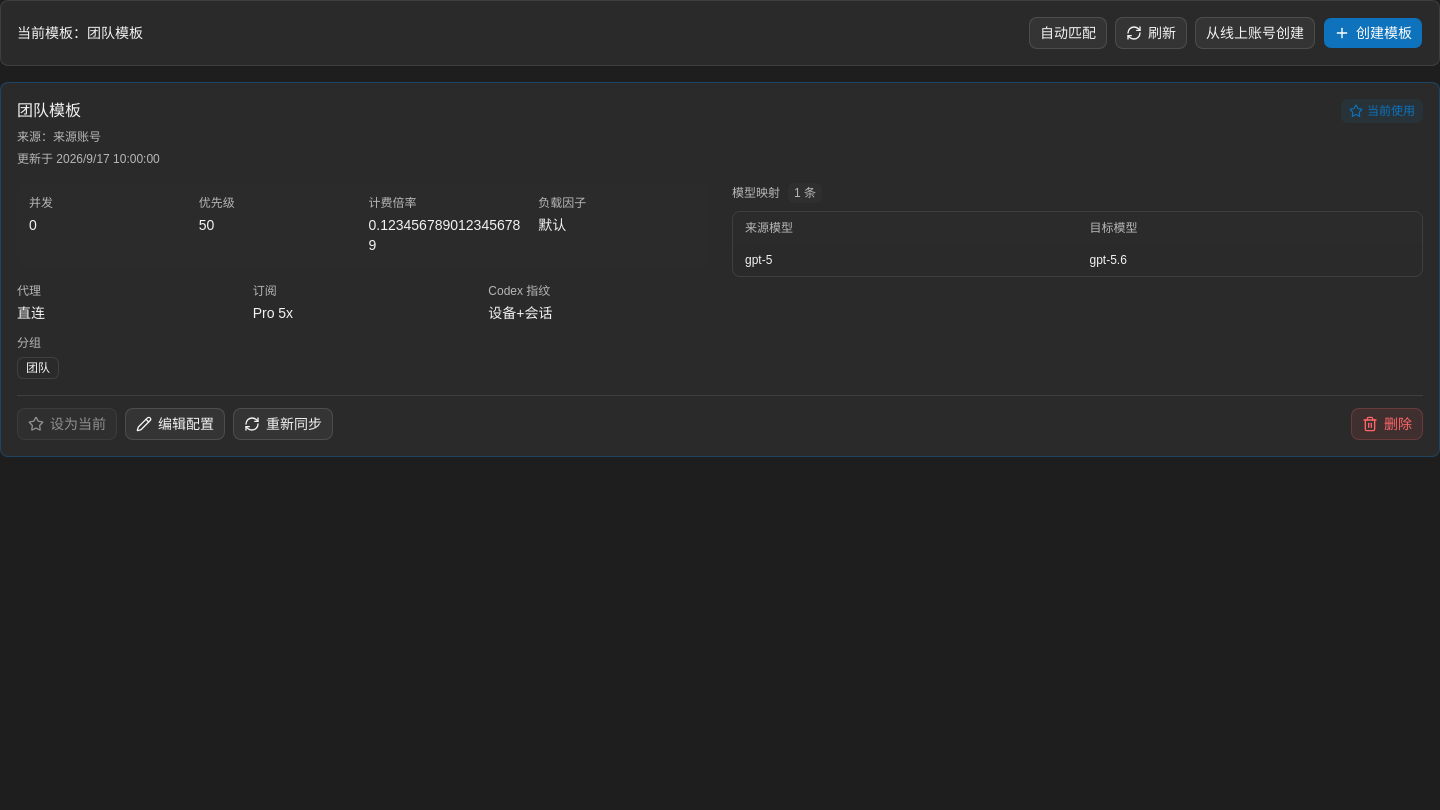
Test: 来源模板可直接编辑配置，保存沿用模板 ID 和版本且不读取线上账号
Step 1. Click the button "编辑配置" → (175, 424), box [125,408,225,440]
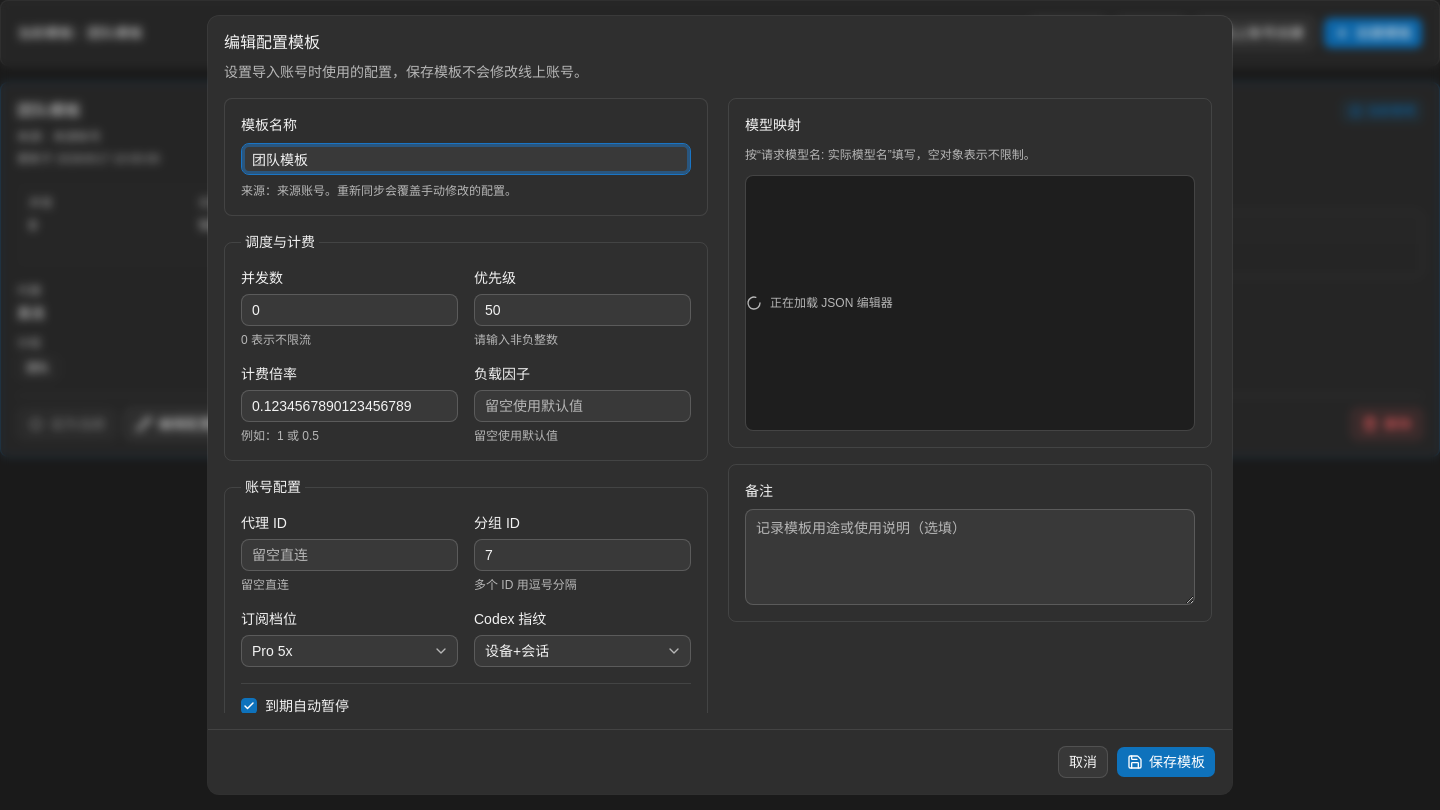
Expected: the field labelled "模板名称" holds "团队模板"
Expected: the field labelled "计费倍率" holds "0.1234567890123456789", [241,390,458,422]
Step 2. Replace the text in the field labelled "模板名称" with "调整后模板" → (466, 159), box [241,143,691,175]
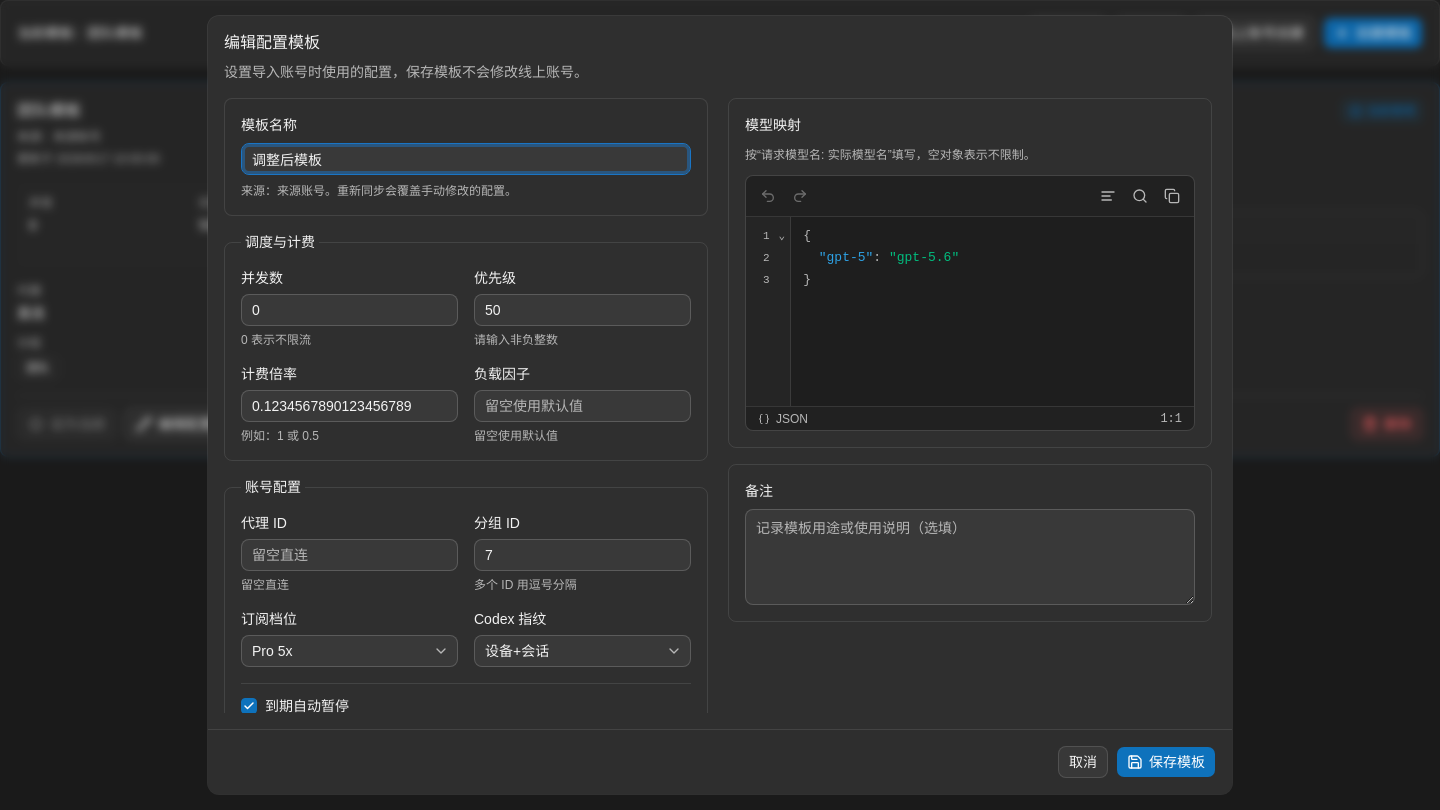
Step 3. Replace the text in the number field labelled "并发数" with "12" → (350, 310), box [241,294,458,326]
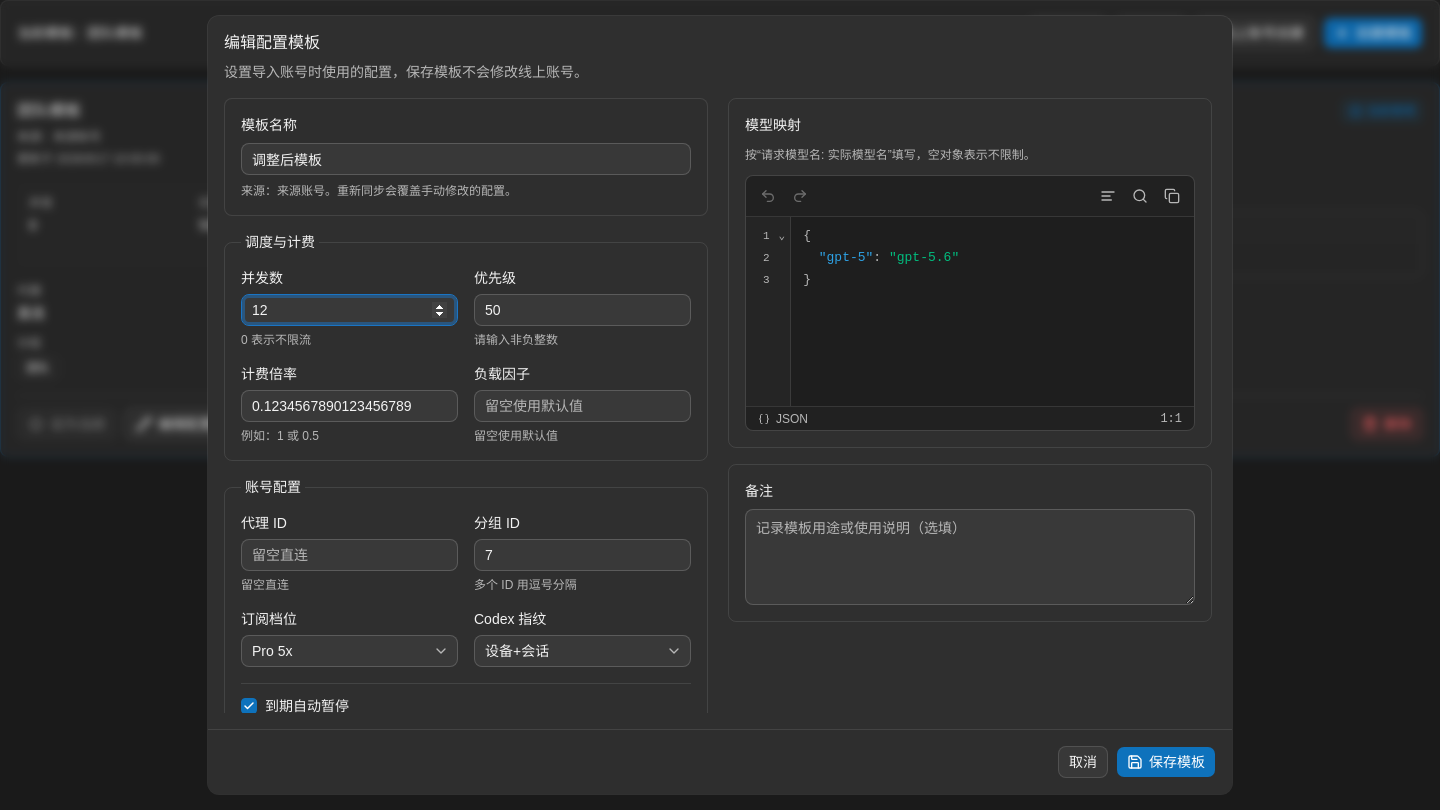
Step 4. Click the button "保存模板" → (1166, 762), box [1116,746,1216,778]
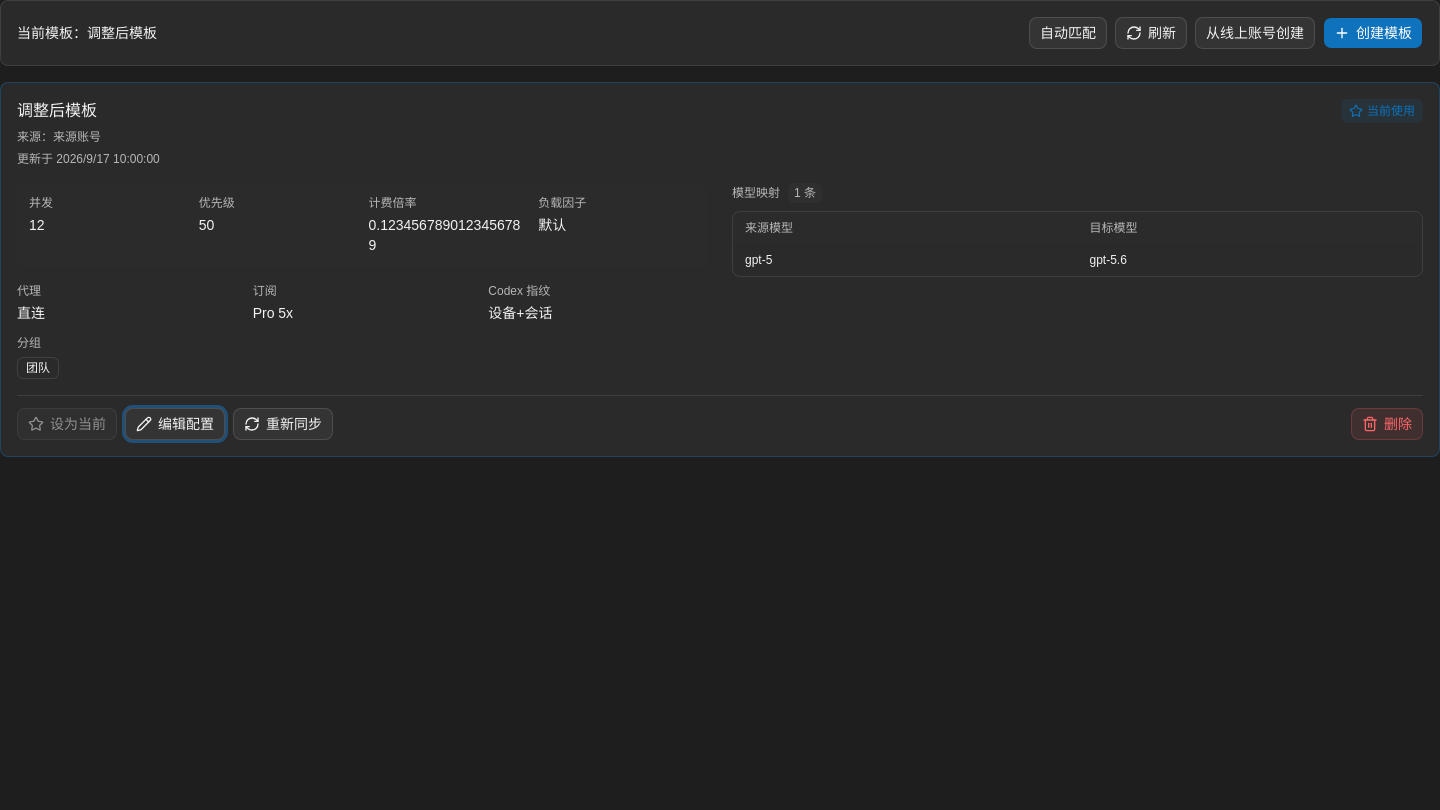
Expected: the dialog is gone
Expected: the element "调整后模板" is shown, [0,82,1439,457]
